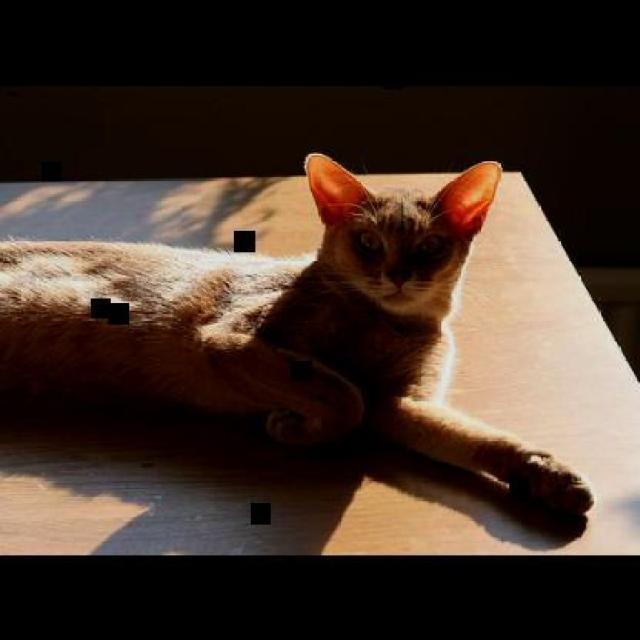unauthorized: (0, 149, 594, 520)
